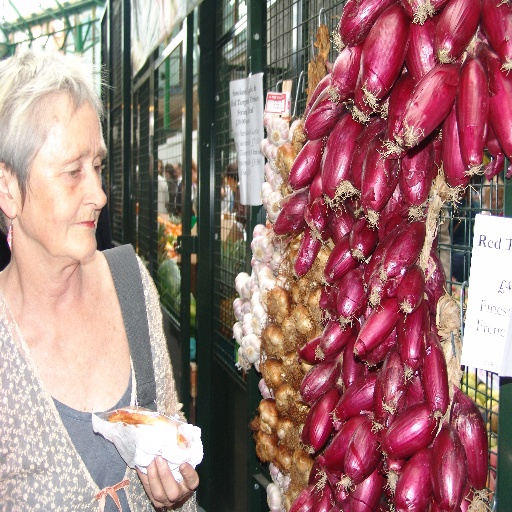hand: (134, 450, 199, 507)
